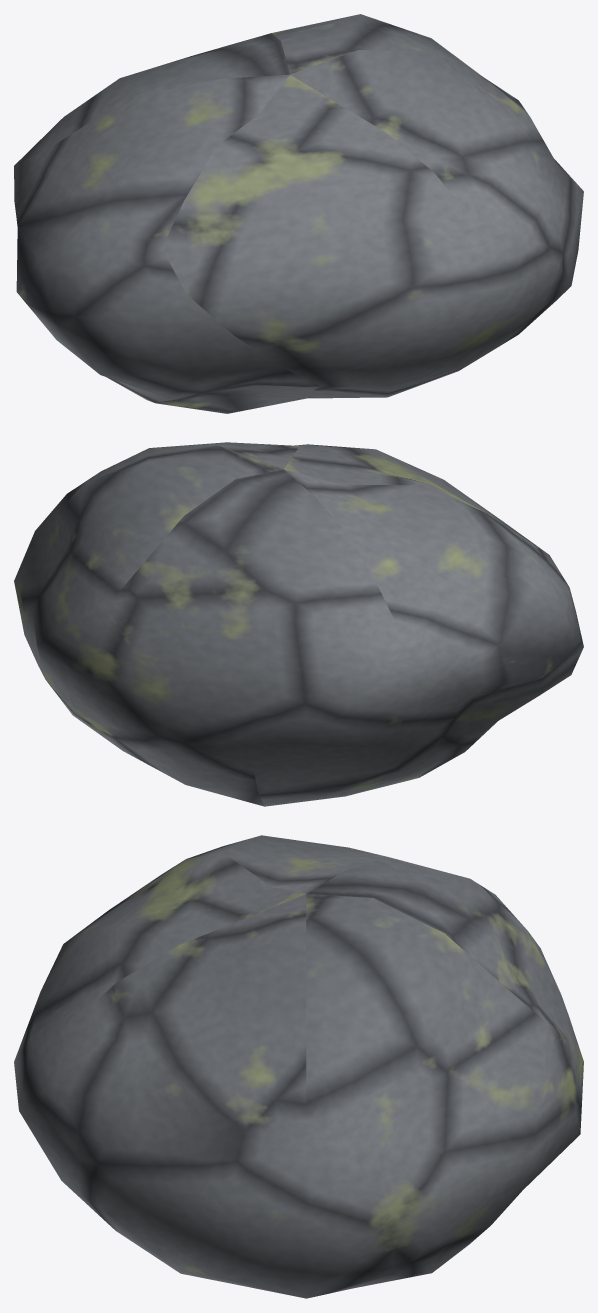
File: detail_boulder.glb
3 views of the same model, one above another, from view 1: azimuth 30°, elevation 25°; view 2: azimuth 150°, elevation 25°; view 3: azimuth 270°, elevation 25° (orthographic). The views are drawn at different scales.
Parts seen in each view (by area): view 1: Icosphere; view 2: Icosphere; view 3: Icosphere.
Boxes of the visible parts, left/top/right/bottom form: Icosphere: left=14, top=14, right=583, bottom=413; Icosphere: left=14, top=442, right=583, bottom=806; Icosphere: left=14, top=835, right=583, bottom=1298.
Size of the model in its own units: 3.33 by 1.93 by 2.73.
Materials: 1 (1 with a texture image).
